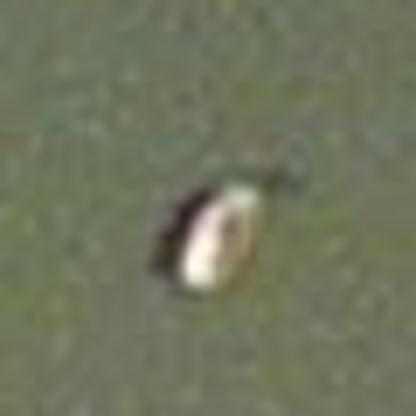ship: (134, 172, 288, 302)
